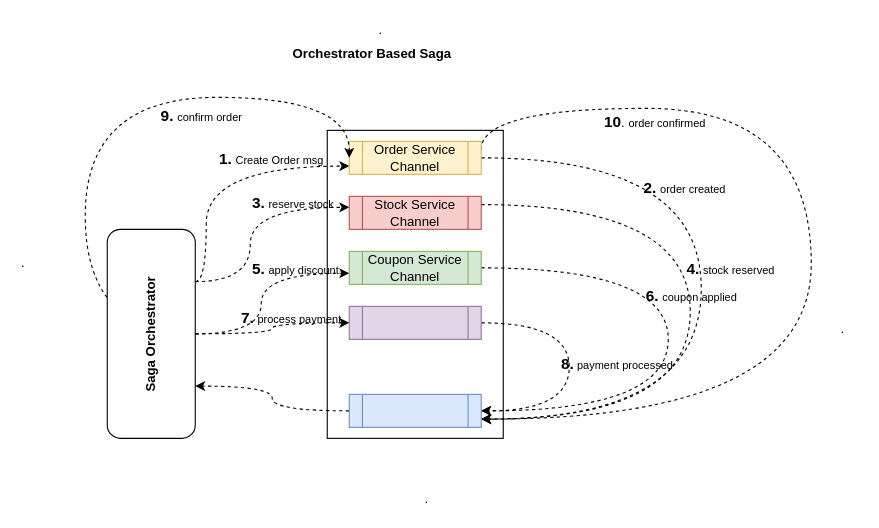
The diagram is 879 pixels wide and 528 high, and some of its shapes have lost their labels. The centre of each missing label's shape, as x and y in pixels:
Payment Service Channel: point (414, 322)
Reply Back Channel: point (414, 410)
